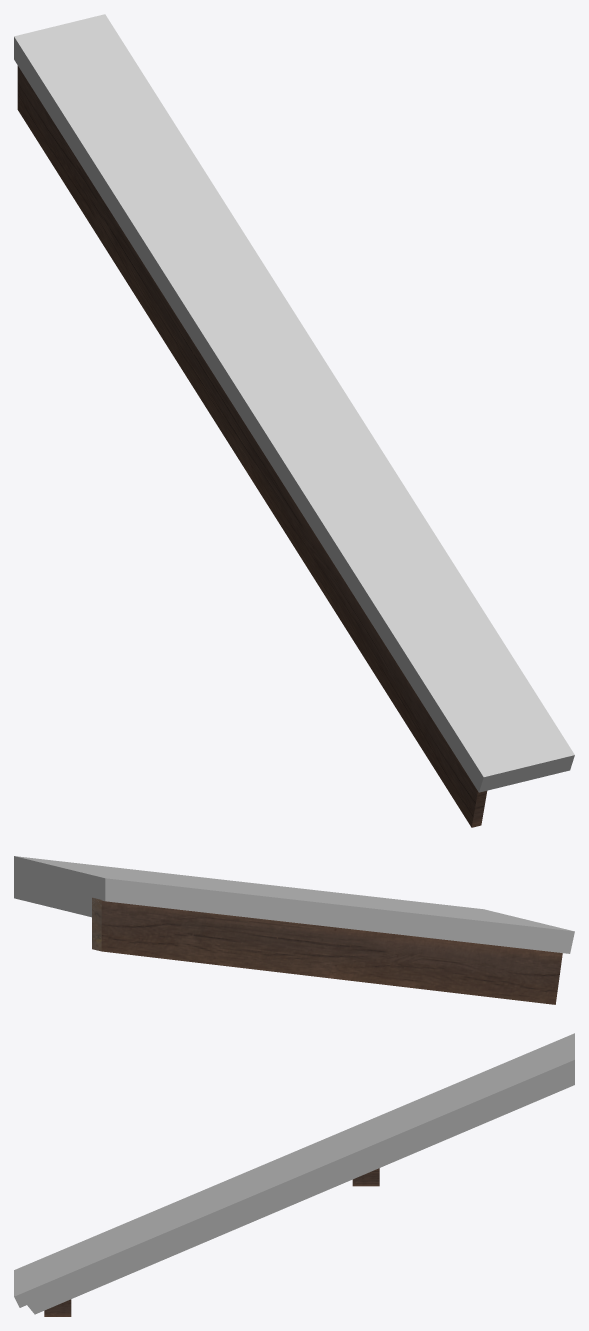
File: kawara__x2t_a1end_r.fbx
3 views of the same model, one above another, from view 1: azimuth 30°, elevation 25°; view 2: azimuth 150°, elevation 25°; view 3: azimuth 270°, elevation 25° (orthographic). The views are drawn at different scales.
Visible parts, largest first — view 1: kawara__x2t_a1end_r; view 2: kawara__x2t_a1end_r; view 3: kawara__x2t_a1end_r.
Part boxes in pixels (x1,y1,x2,y2): kawara__x2t_a1end_r: [14, 14, 574, 827]; kawara__x2t_a1end_r: [14, 856, 574, 1004]; kawara__x2t_a1end_r: [14, 1033, 574, 1316].
Bounding box in the file's own units: 30.3 × 146 × 270.
